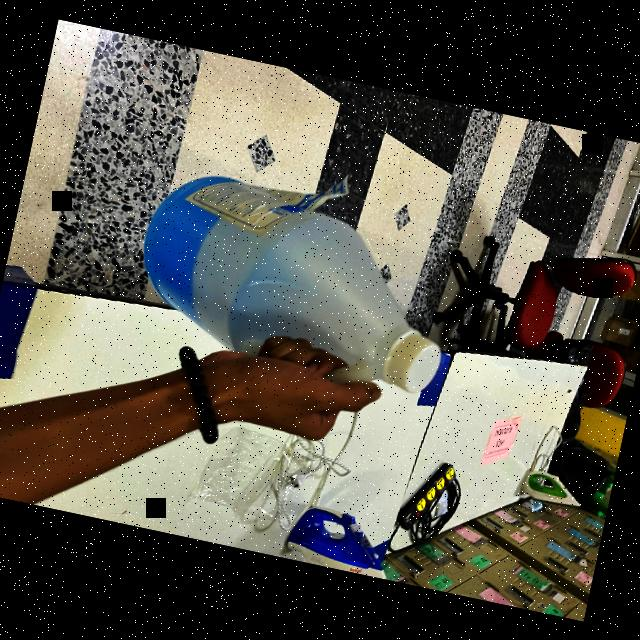chemical_plastic_gallon: (116, 122, 480, 445)
